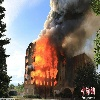fire: (31, 40, 58, 86)
